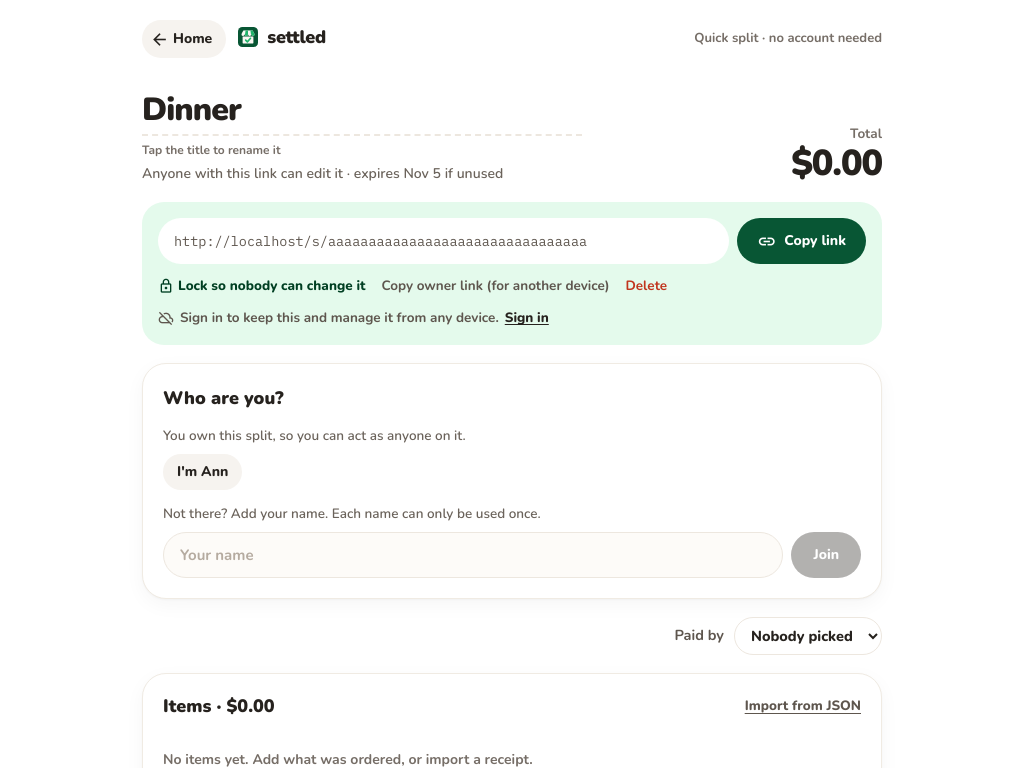
Quick split page (no account) › the owner can act as anyone already on the split
Click the button "I'm Ann" at (203, 472), box [163,454,242,490]
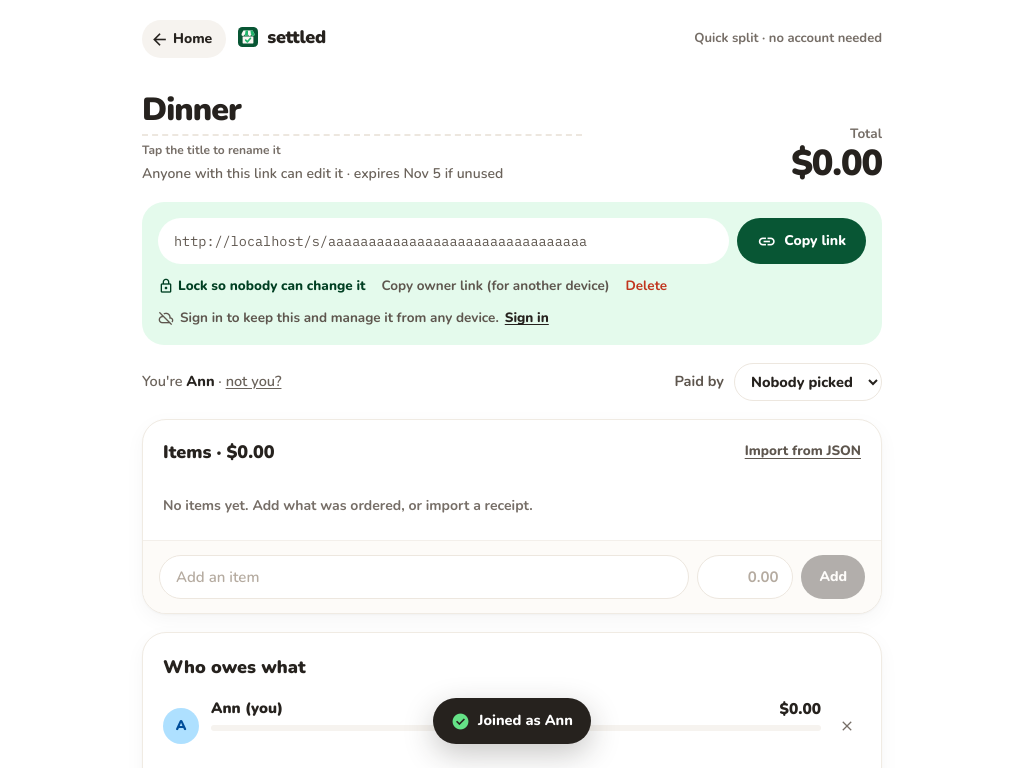
Expected: the text "Ann" is shown, [186,371,214,391]
